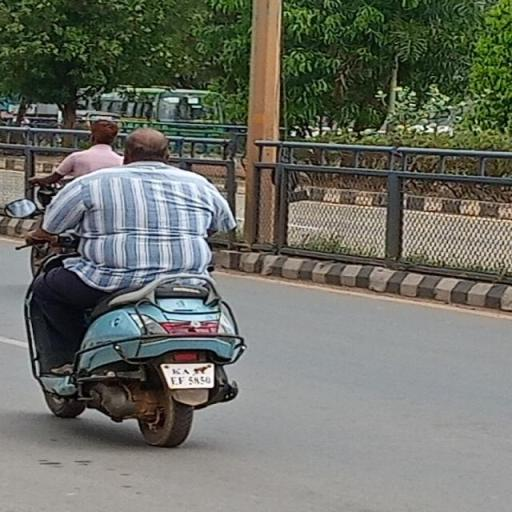bike: (8, 122, 261, 446)
numberplate: (164, 360, 216, 390)
withouthelmet: (129, 130, 167, 160)
